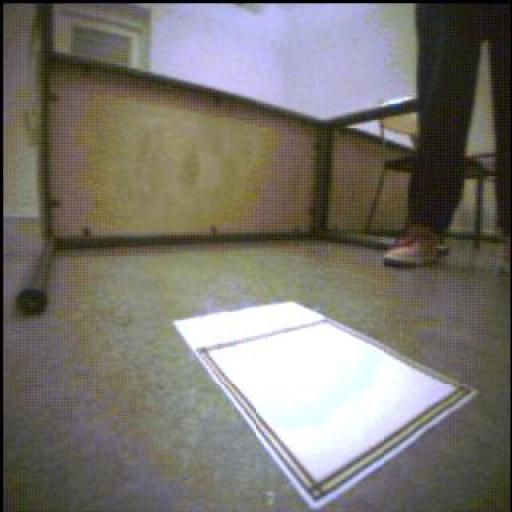Pad: (176, 303, 477, 510)
